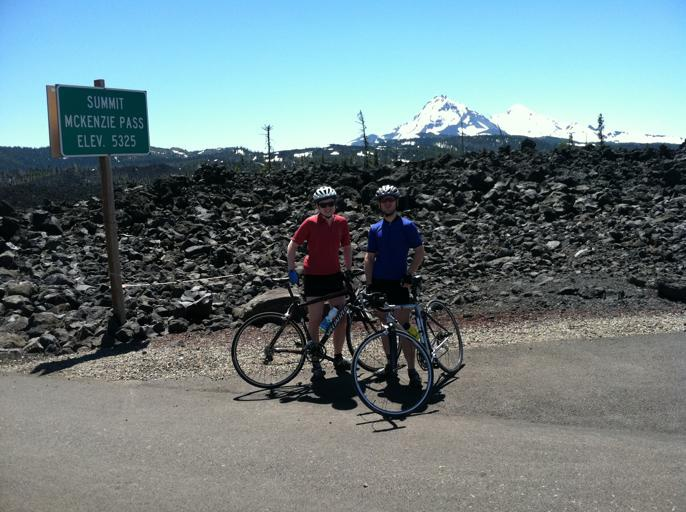non-vehicle: (231, 270, 403, 389), (351, 274, 464, 417)
